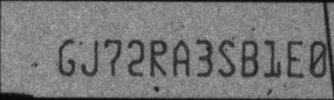0: (310, 40, 327, 78)
1: (264, 38, 282, 77)
2: (127, 38, 145, 77)
3: (195, 37, 213, 77)
7: (103, 38, 122, 76)
A: (172, 38, 191, 76)
B: (240, 38, 260, 78)
E: (286, 39, 305, 78)
G: (58, 38, 76, 76)
J: (80, 37, 99, 76)
R: (150, 40, 168, 78)
S: (217, 38, 236, 77)
